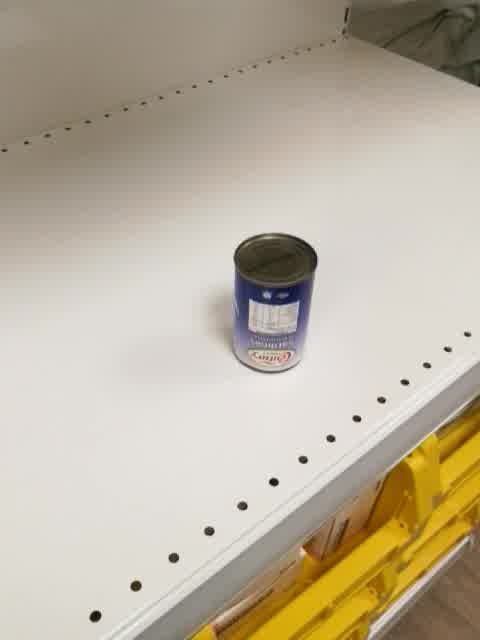sardine: (229, 229, 319, 376)
